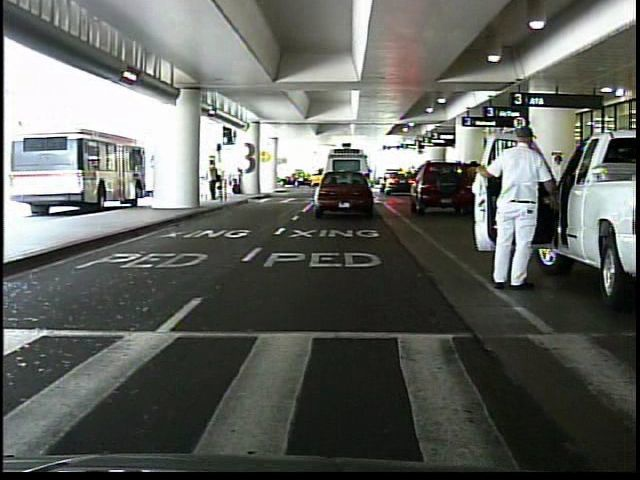person: (481, 121, 555, 294), (542, 149, 571, 223), (206, 155, 220, 203), (231, 163, 247, 198)
